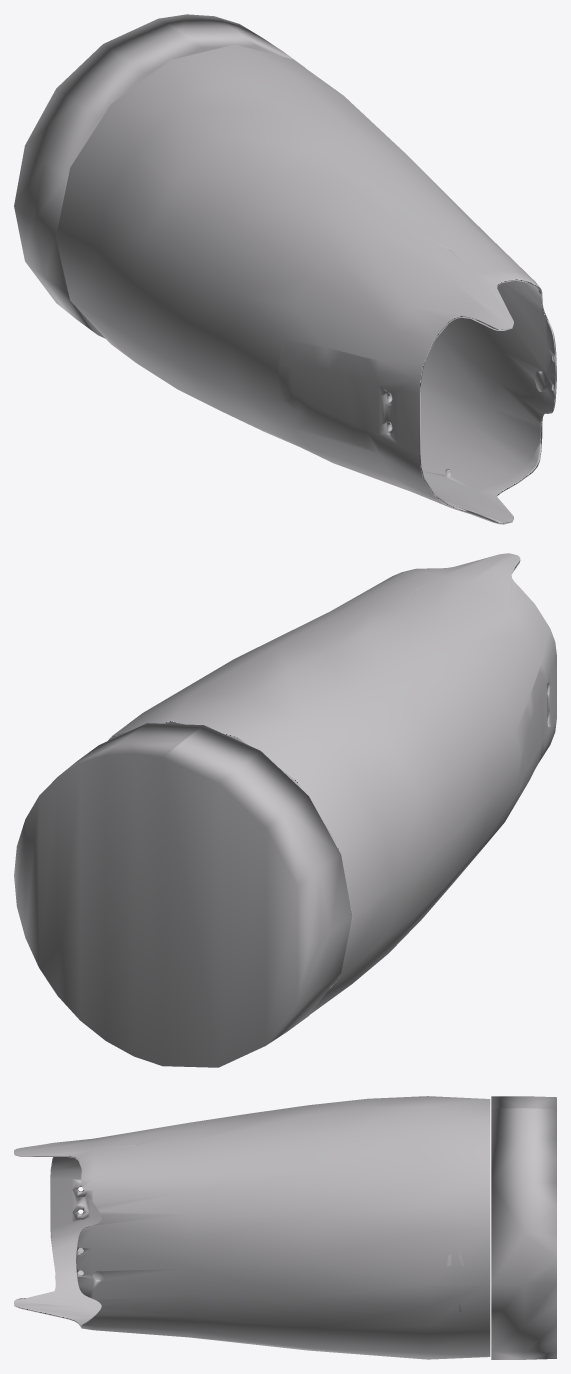
The model's file is Left_Forearm.dae.
3 views of the same model, one above another, from view 1: azimuth 30°, elevation 25°; view 2: azimuth 150°, elevation 25°; view 3: azimuth 270°, elevation 25° (orthographic). The views are drawn at different scales.
Parts seen in each view (by area): view 1: Mesh; view 2: Mesh; view 3: Mesh.
Part boxes in pixels (x1,y1,x2,y2): Mesh: (14,14,556,524); Mesh: (14,553,556,1067); Mesh: (14,1096,556,1359).
Bounding box in the file's own units: 0.127 × 0.127 × 0.2613.
1 material, 1 textured.
